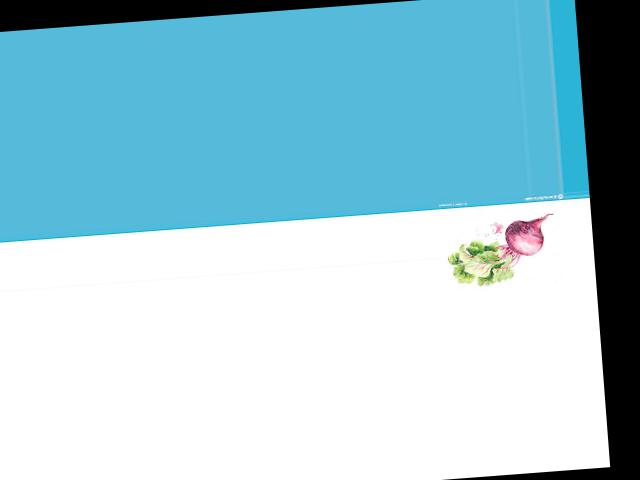beet: (443, 212, 558, 288)
